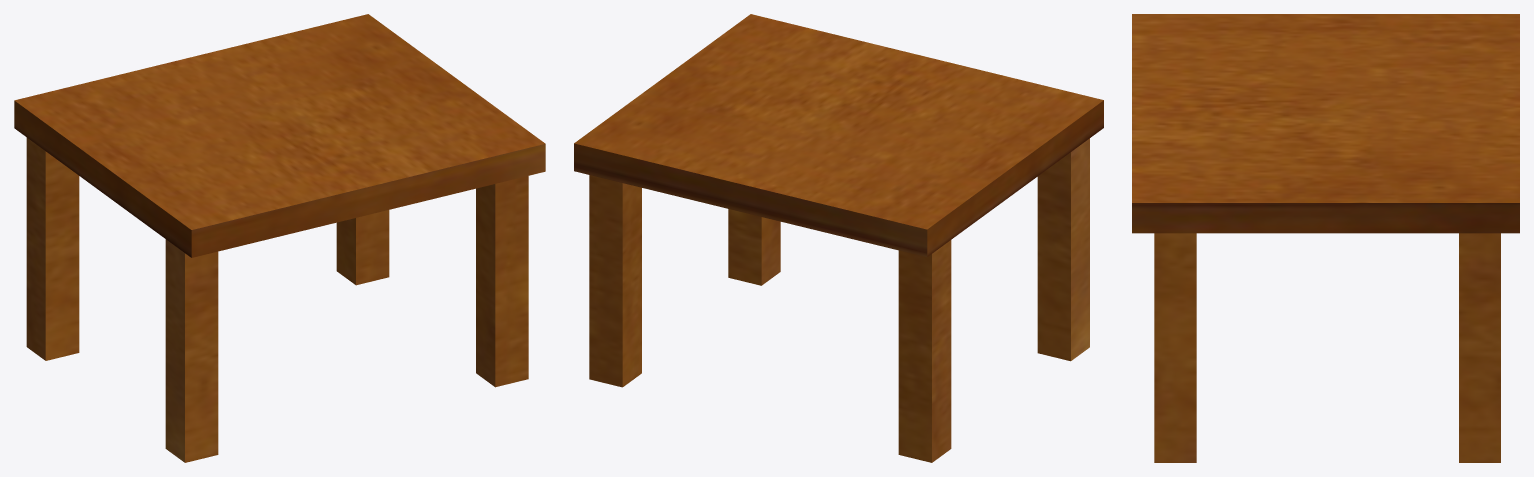
File: table_end.fbx
The picture shows the model from 3 angles, left to right: view 1: azimuth 30°, elevation 25°; view 2: azimuth 150°, elevation 25°; view 3: azimuth 270°, elevation 25°; orthographic projection. The views are drawn at different scales.
Parts seen in each view (by area): view 1: end_table; view 2: end_table; view 3: end_table.
Part boxes in pixels (x1,y1,x2,y2): end_table: [14, 14, 545, 462]; end_table: [574, 14, 1103, 462]; end_table: [1132, 14, 1519, 462].
Size of the model in its own units: 100 by 65.38 by 87.11.
1 material, 1 textured.
